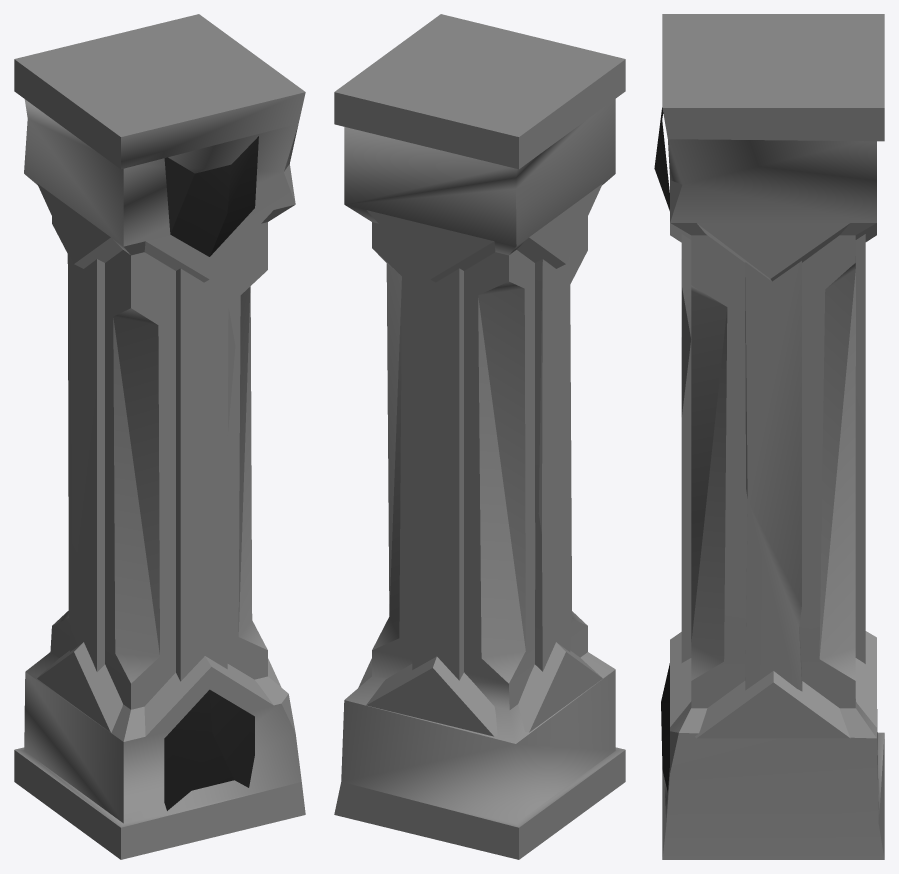
File: DungeonColumn.fbx
The picture shows the model from 3 angles, left to right: view 1: azimuth 30°, elevation 25°; view 2: azimuth 150°, elevation 25°; view 3: azimuth 270°, elevation 25°; orthographic projection. The views are drawn at different scales.
Visible parts, largest first — view 1: Column; view 2: Column; view 3: Column.
Boxes of the visible parts, x1,y1,x2,y2 form: Column: (14, 14, 305, 859); Column: (334, 14, 625, 859); Column: (654, 14, 884, 859).
Bounding box in the file's own units: 346 × 1292 × 358.
